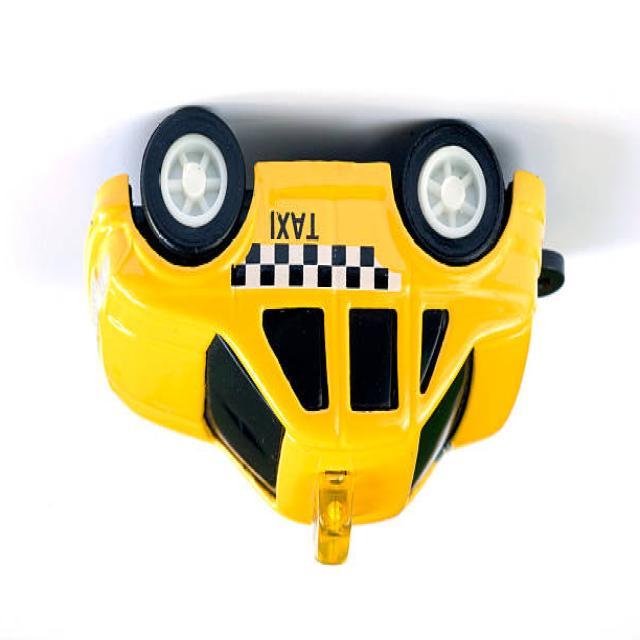Car: (87, 110, 563, 565)
